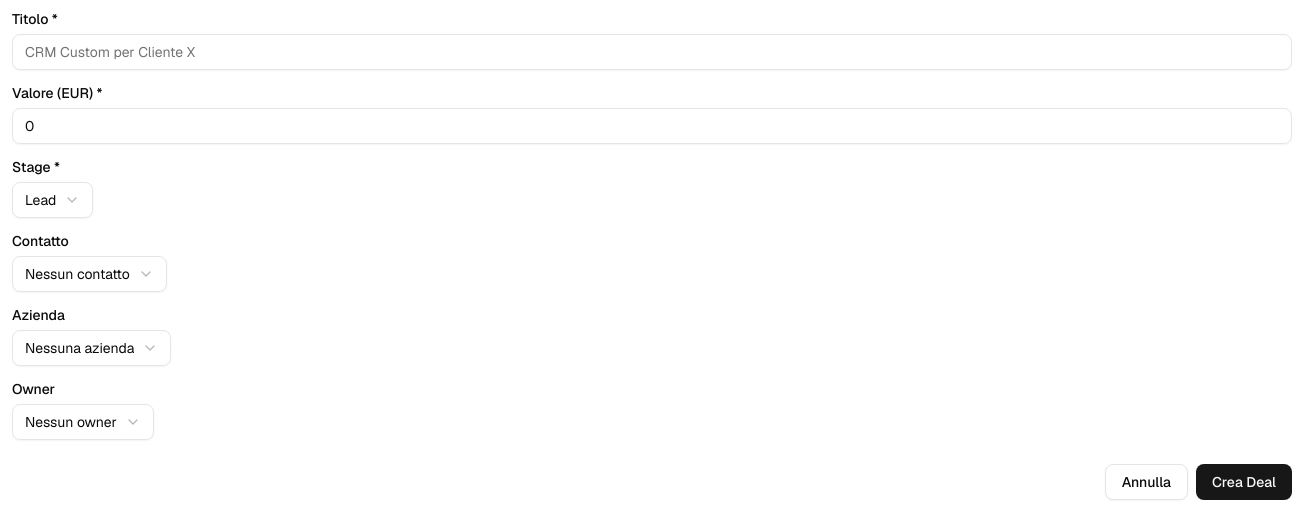
Test: DealForm › auto-selects company when selecting a contact with companyId
This screenshot has width=1304, height=517.
Click the dropdown labelled "Nessun contatto".
click(89, 274)  # box [12, 256, 167, 292]
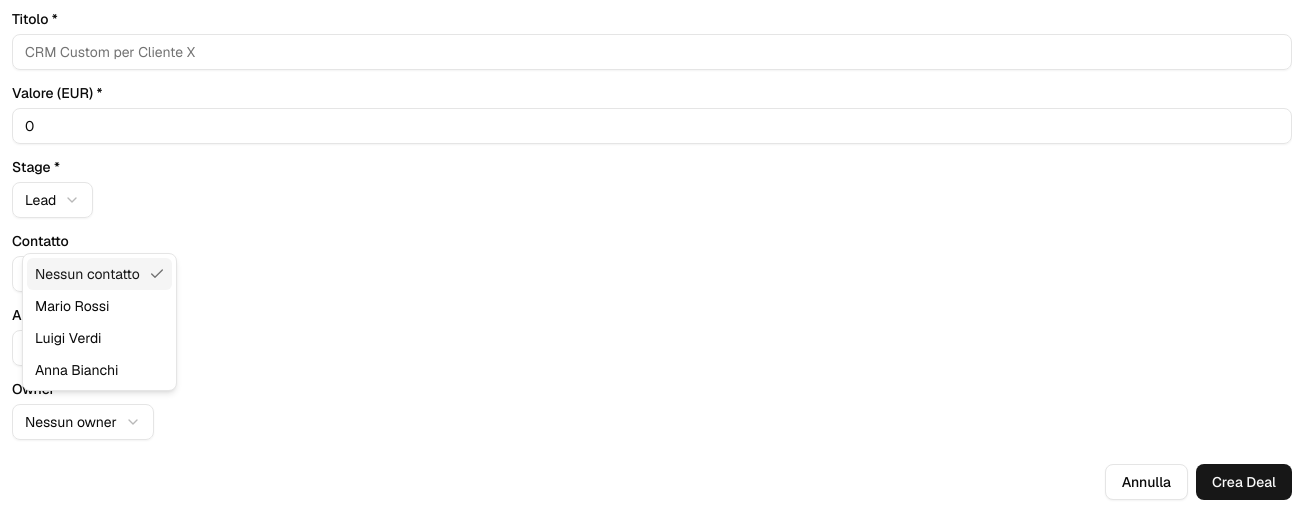
Click the option "Mario Rossi".
click(72, 306)  # box [35, 297, 109, 315]
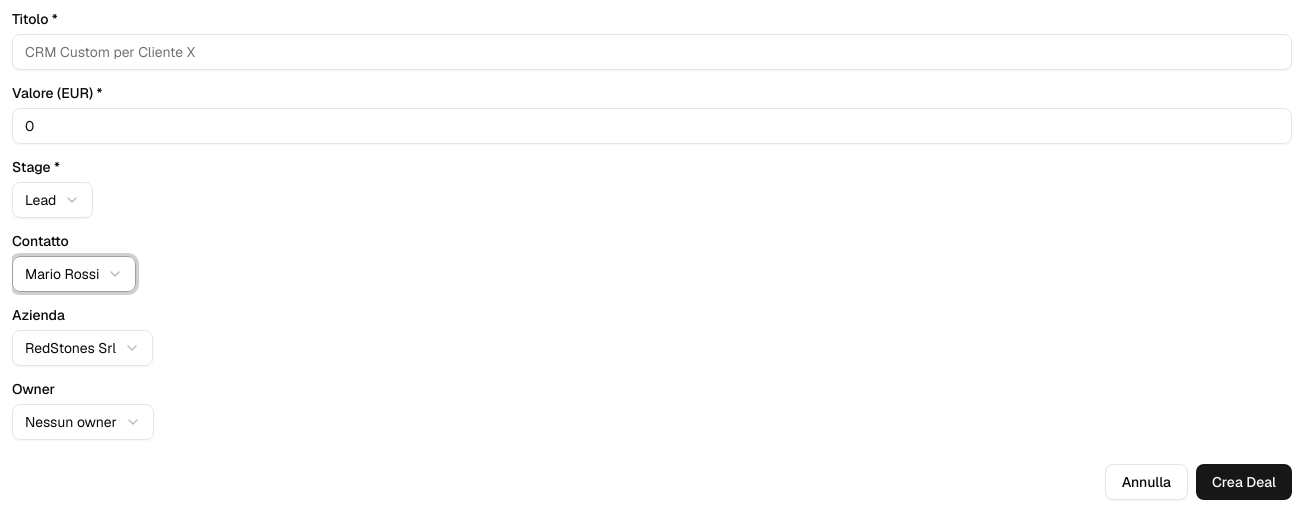
Check: the dropdown labelled "RedStones Srl" is shown, box [12, 330, 153, 366]
